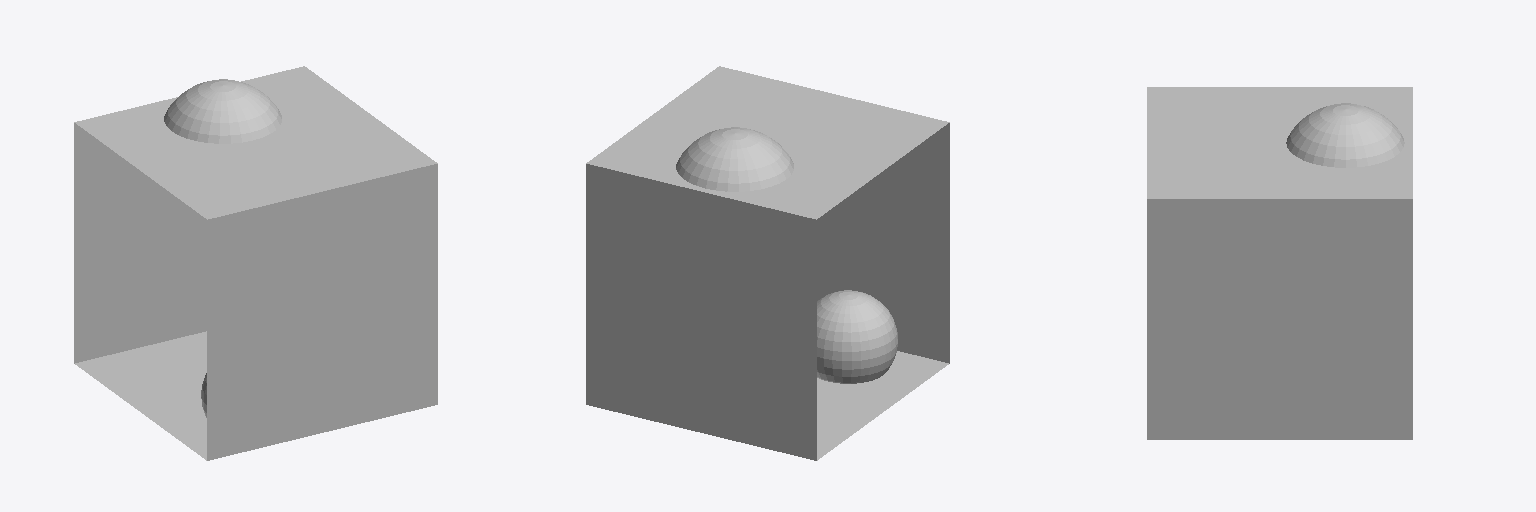
The model's file is cornell-box.obj.
3 views of the same model, side by side, from view 1: azimuth 30°, elevation 25°; view 2: azimuth 150°, elevation 25°; view 3: azimuth 270°, elevation 25° (orthographic).
Visible parts, largest first — view 1: Cube, upperSphere; view 2: Cube, bottomSphere, upperSphere; view 3: Cube, upperSphere.
Part boxes in pixels (left/top/right/bottom): Cube: left=74, top=66, right=437, bottom=460; upperSphere: left=164, top=79, right=281, bottom=143; Cube: left=586, top=66, right=949, bottom=460; bottomSphere: left=817, top=290, right=897, bottom=383; upperSphere: left=676, top=127, right=793, bottom=191; Cube: left=1147, top=87, right=1412, bottom=439; upperSphere: left=1286, top=103, right=1404, bottom=167.
Bounding box in the file's own units: 16 × 19.43 × 16.